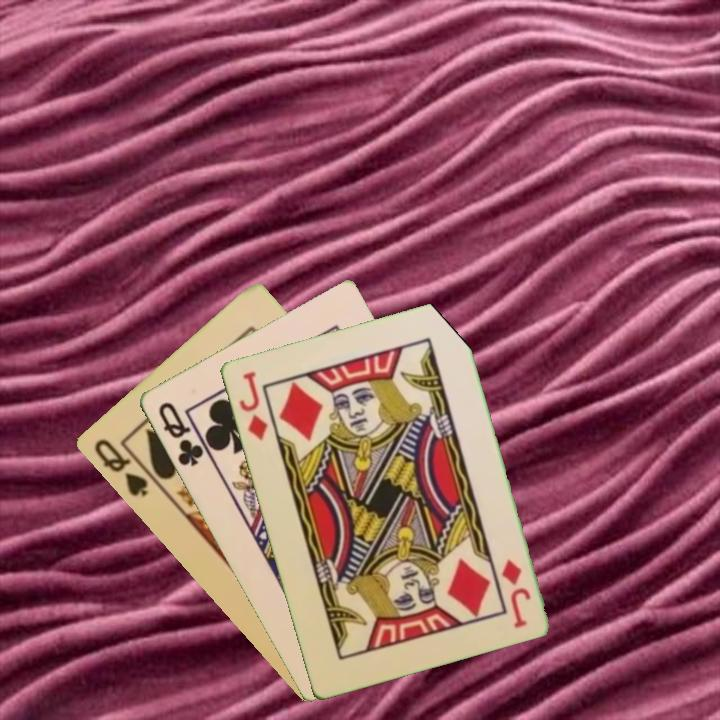Jd: (234, 367, 271, 443), (497, 554, 533, 631)
Qc: (154, 398, 206, 469)
Qs: (90, 435, 150, 501)
